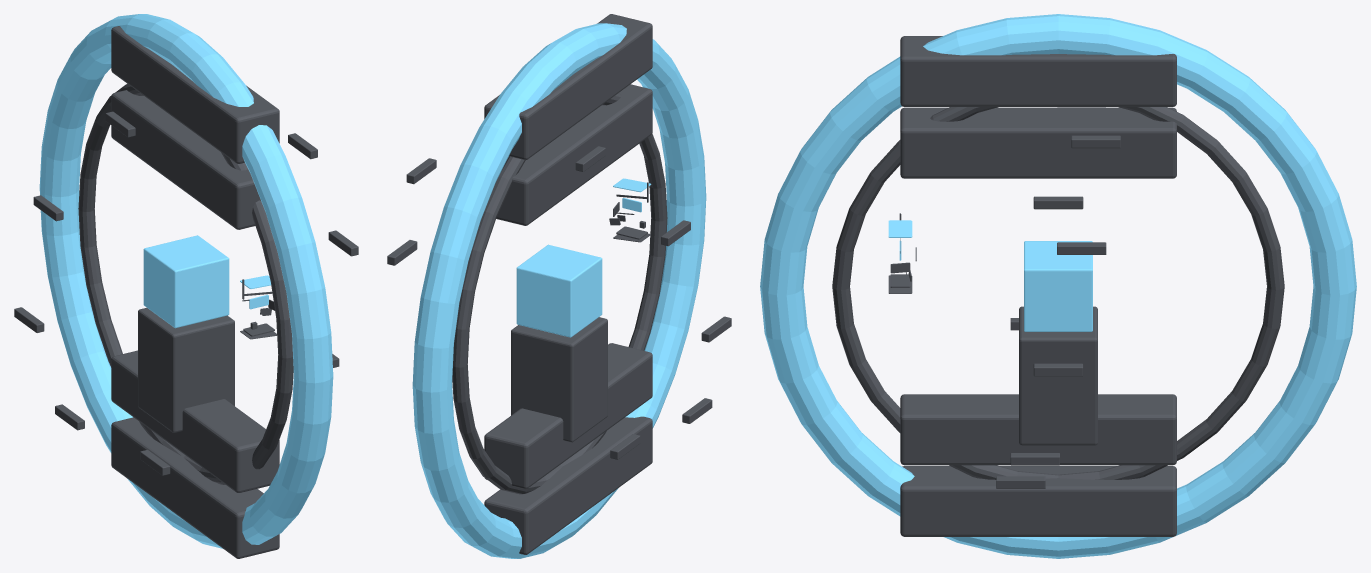
File: place_gate_jump_ring.glb
3 views of the same model, side by side, from view 1: azimuth 30°, elevation 25°; view 2: azimuth 150°, elevation 25°; view 3: azimuth 270°, elevation 25° (orthographic). The views are drawn at different scales.
Visible parts, largest first — view 1: Gate_Outer_Ring, Gate_Inner_Ring, Gate_Hub, Gate_Pylon_8, Gate_Pylon_-12, Gate_Pylon_-8, Gate_Pylon_12, Gate_Core, Gate_Strut_0, Gate_Strut_4; view 2: Gate_Outer_Ring, Gate_Inner_Ring, Gate_Hub, Gate_Pylon_8, Gate_Pylon_-12, Gate_Pylon_-8, Gate_Pylon_12, Gate_Core, Gate_Strut_5, Gate_Strut_1; view 3: Gate_Outer_Ring, Gate_Pylon_8, Gate_Pylon_-12, Gate_Inner_Ring, Gate_Pylon_-8, Gate_Pylon_12, Gate_Hub, Gate_Core.
Part boxes in pixels (box(x1,y1,x2,y2)): Gate_Outer_Ring: box(39, 14, 333, 548); Gate_Inner_Ring: box(78, 83, 293, 484); Gate_Hub: box(138, 307, 234, 432); Gate_Pylon_8: box(111, 90, 260, 229); Gate_Pylon_-12: box(111, 417, 279, 558); Gate_Pylon_-8: box(111, 350, 279, 492); Gate_Pylon_12: box(111, 26, 279, 163); Gate_Core: box(143, 235, 229, 328); Gate_Strut_0: box(328, 230, 358, 256); Gate_Strut_4: box(33, 195, 63, 221); Gate_Outer_Ring: box(412, 23, 706, 558); Gate_Inner_Ring: box(452, 93, 667, 494); Gate_Hub: box(511, 317, 607, 442); Gate_Pylon_8: box(496, 84, 652, 225); Gate_Pylon_-12: box(484, 416, 652, 554); Gate_Pylon_-8: box(484, 343, 652, 489); Gate_Pylon_12: box(484, 14, 652, 159); Gate_Core: box(516, 244, 602, 337); Gate_Strut_5: box(701, 316, 731, 342); Gate_Strut_1: box(406, 158, 436, 184); Gate_Outer_Ring: box(760, 14, 1356, 558); Gate_Pylon_8: box(900, 107, 1176, 178); Gate_Pylon_-12: box(900, 466, 1176, 536); Gate_Inner_Ring: box(832, 107, 1284, 479); Gate_Pylon_-8: box(900, 394, 1176, 465); Gate_Pylon_12: box(900, 36, 1176, 106); Gate_Hub: box(1019, 306, 1097, 445); Gate_Core: box(1024, 241, 1092, 331).
Bounding box in the file's own units: 20.5 × 30.2 × 30.2.
